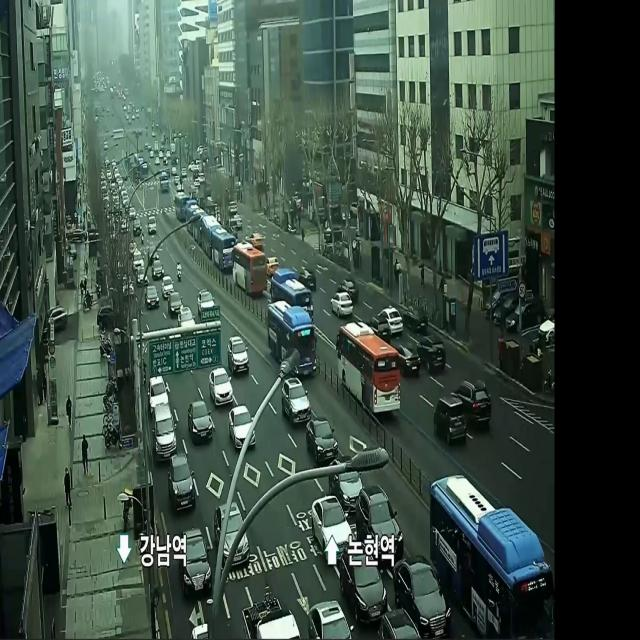car: (428, 468, 552, 640), (338, 320, 402, 419), (269, 299, 316, 381), (269, 267, 313, 326), (232, 240, 268, 294), (208, 225, 236, 274)
motorcycle: (167, 447, 198, 519), (455, 375, 492, 431), (434, 394, 469, 448), (306, 416, 340, 467), (282, 372, 312, 427), (151, 402, 178, 463), (230, 401, 258, 449), (187, 397, 213, 448), (419, 330, 446, 374), (209, 364, 235, 409), (228, 331, 250, 381), (397, 336, 421, 380), (376, 306, 404, 337), (331, 290, 356, 316), (168, 288, 184, 321)
